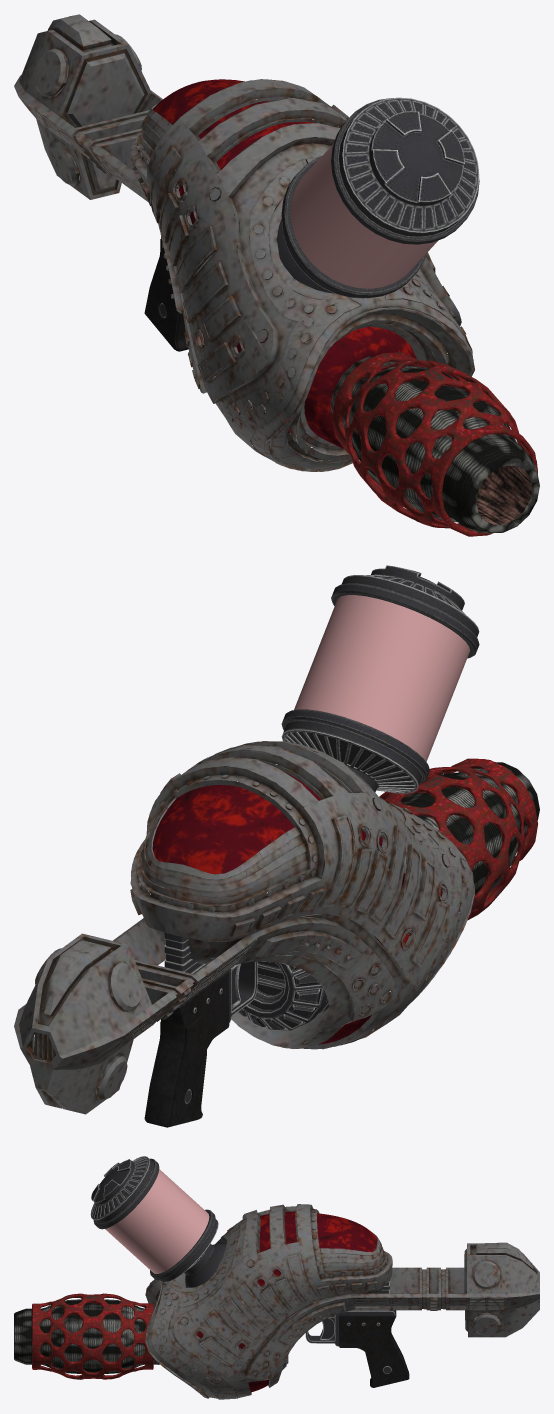
File: fetus_launcher.glb
The picture shows the model from 3 angles, top to bottom: view 1: azimuth 30°, elevation 25°; view 2: azimuth 150°, elevation 25°; view 3: azimuth 270°, elevation 25°; orthographic projection. The views are drawn at different scales.
Visible parts, largest first — view 1: main_gun_body, container_frame, barrel_ext, barrel_mid, glass, flesh, barrel_int, grip_ext; view 2: main_gun_body, glass, container_frame, flesh, barrel_ext, grip_ext, mechanical_thing, barrel_mid, grip_int; view 3: main_gun_body, barrel_ext, glass, container_frame, barrel_mid, grip_ext, flesh, grip_int.
Boxes of the visible parts, x1=… form: main_gun_body: x1=14, y1=14, x2=474, y2=471; container_frame: x1=264, y1=97, x2=479, y2=322; barrel_ext: x1=331, y1=352, x2=537, y2=536; barrel_mid: x1=331, y1=355, x2=539, y2=533; glass: x1=290, y1=143, x2=438, y2=288; flesh: x1=152, y1=79, x2=416, y2=449; barrel_int: x1=476, y1=465, x2=532, y2=524; grip_ext: x1=144, y1=236, x2=188, y2=351; main_gun_body: x1=14, y1=741, x2=474, y2=1114; glass: x1=294, y1=595, x2=470, y2=761; container_frame: x1=270, y1=565, x2=479, y2=894; flesh: x1=152, y1=771, x2=442, y2=1044; barrel_ext: x1=379, y1=758, x2=537, y2=920; grip_ext: x1=144, y1=971, x2=229, y2=1127; mechanical_thing: x1=238, y1=887, x2=372, y2=1030; barrel_mid: x1=357, y1=762, x2=539, y2=937; grip_int: x1=164, y1=875, x2=257, y2=1103; main_gun_body: x1=145, y1=1204, x2=539, y2=1399; barrel_ext: x1=32, y1=1293, x2=153, y2=1379; glass: x1=105, y1=1169, x2=209, y2=1273; container_frame: x1=90, y1=1156, x2=255, y2=1314; barrel_mid: x1=14, y1=1299, x2=197, y2=1373; grip_ext: x1=339, y1=1310, x2=409, y2=1387; flesh: x1=197, y1=1211, x2=377, y2=1392; grip_int: x1=305, y1=1269, x2=396, y2=1373.
Size of the model in its own units: 8.53 by 15.11 by 30.85.
Materials: 11 (10 with a texture image).
